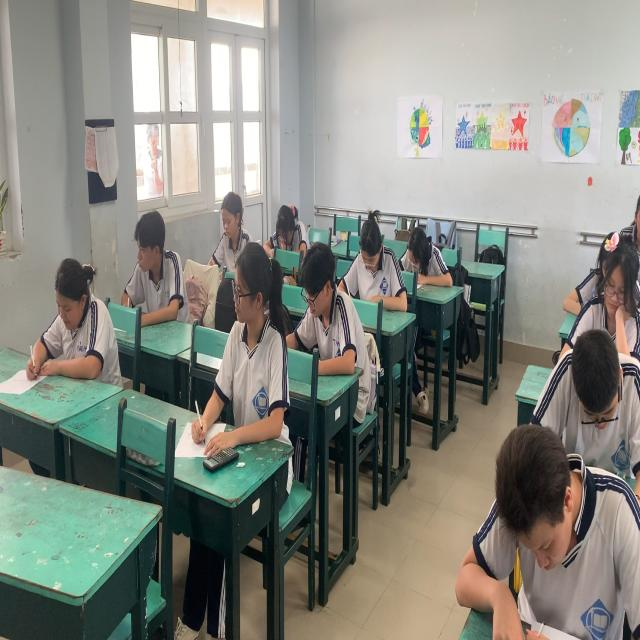not_cheating: (478, 417, 618, 606), (210, 239, 286, 447), (34, 252, 119, 383), (561, 333, 635, 468), (124, 205, 188, 324), (298, 237, 355, 367), (585, 227, 634, 347), (352, 203, 396, 317), (404, 217, 443, 304), (267, 198, 305, 268), (216, 182, 245, 266)
